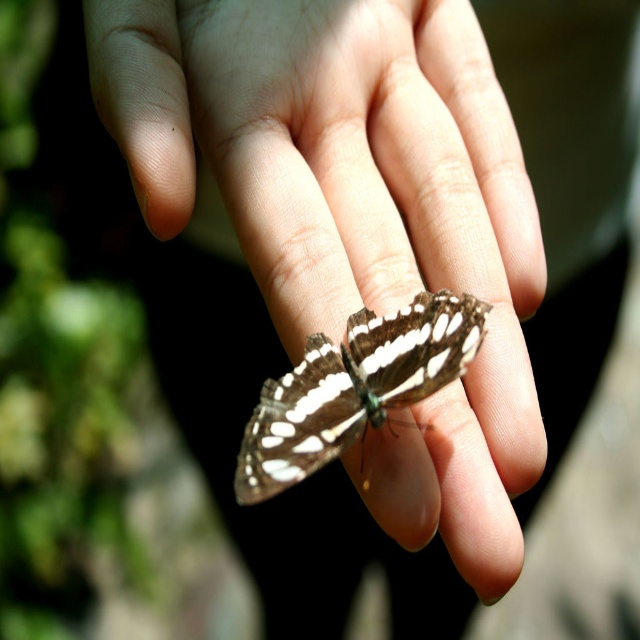Butterfly: (258, 269, 498, 505)
